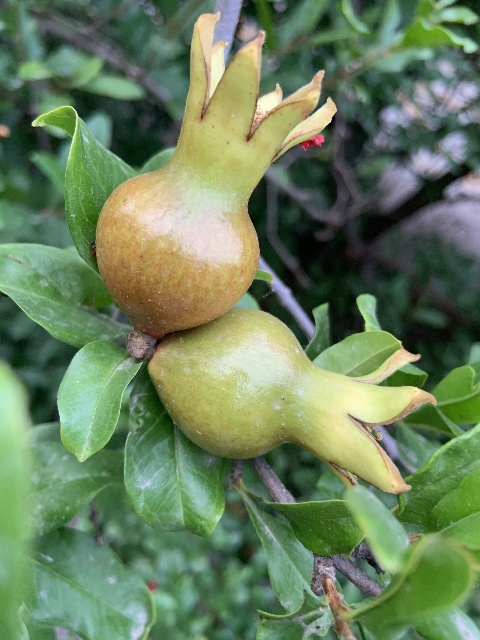early-fruit: (94, 10, 337, 337)
mid-growth: (148, 308, 436, 493)
